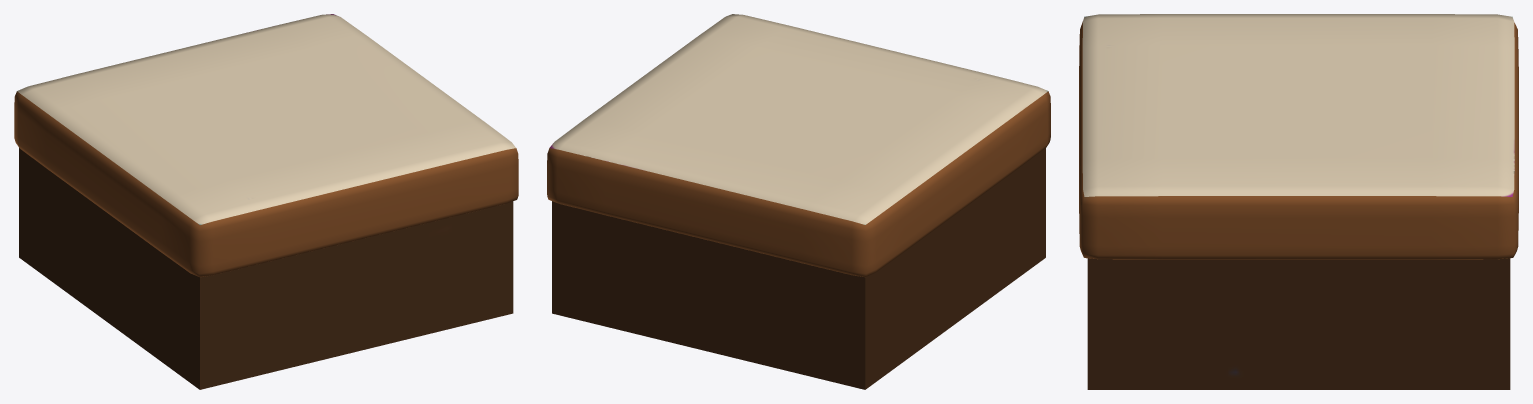
3 renders of one model, left to right at view 1: azimuth 30°, elevation 25°; view 2: azimuth 150°, elevation 25°; view 3: azimuth 270°, elevation 25°, orthographic. The views are drawn at different scales.
Visible parts, largest first — view 1: FT1Cover, FT1Base; view 2: FT1Cover, FT1Base; view 3: FT1Cover, FT1Base.
Part boxes in pixels (bbox=[...]): FT1Cover: bbox=[14, 14, 518, 277]; FT1Base: bbox=[19, 148, 513, 389]; FT1Cover: bbox=[547, 14, 1050, 277]; FT1Base: bbox=[552, 148, 1045, 389]; FT1Cover: bbox=[1079, 14, 1518, 259]; FT1Base: bbox=[1087, 258, 1510, 389].
Bounding box in the file's own units: 1.04 × 0.52 × 1.04.
